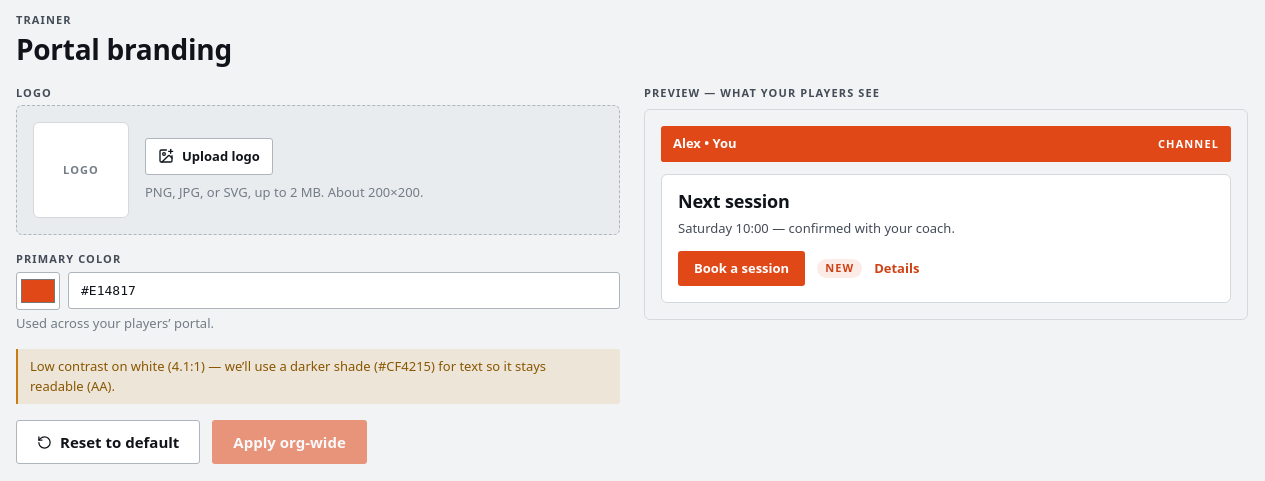
Test: BrandingSettings (FR-037) › blocks an invalid hex and disables Apply
Replace the text in the field labelled "Primary color" with "#12xyz" at (344, 291), box [68, 272, 620, 309]
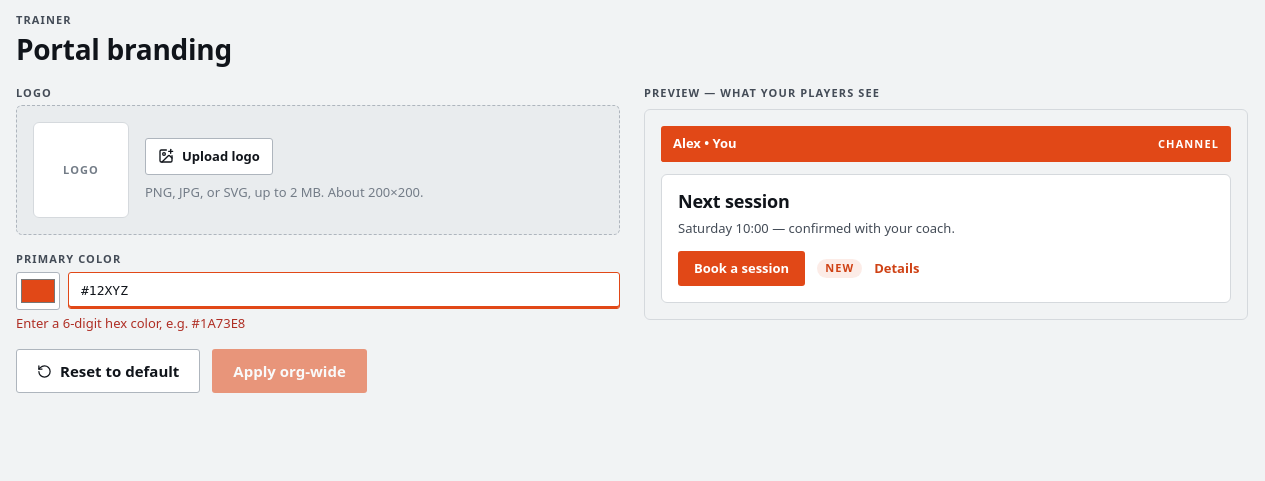
Expected: the button "Apply org-wide" is disabled, [212, 349, 367, 393]
Now the text "Enter a 6-digit hex color, e.g. #1A73E8" is shown, box [16, 314, 245, 332]
